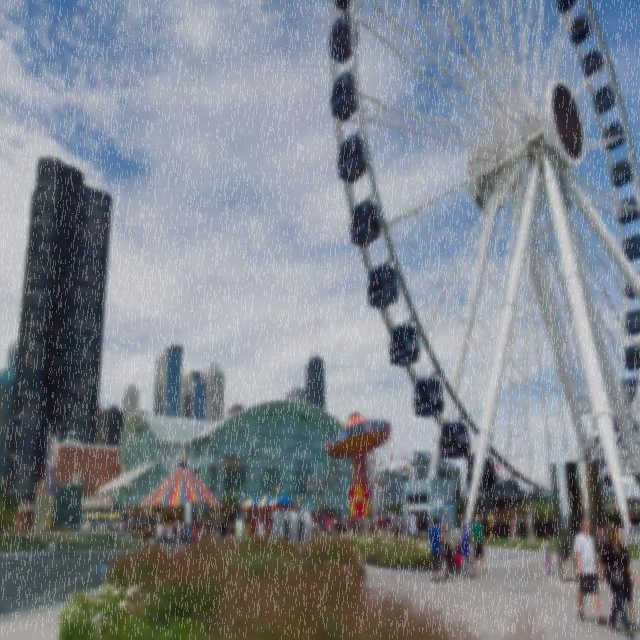pessoa: (598, 521, 638, 639), (572, 515, 609, 628), (616, 528, 640, 633), (366, 453, 416, 486), (305, 464, 349, 494), (426, 515, 444, 584), (457, 518, 475, 578), (470, 512, 488, 572), (198, 516, 235, 539), (559, 527, 576, 570), (130, 515, 154, 542), (540, 530, 554, 576), (244, 519, 274, 538), (411, 508, 428, 539), (508, 512, 522, 548), (525, 508, 537, 550), (37, 516, 53, 546), (10, 510, 24, 538), (596, 522, 606, 561), (83, 516, 107, 531), (387, 506, 399, 536), (176, 520, 192, 542), (486, 508, 496, 541), (514, 511, 524, 542), (430, 508, 446, 527), (154, 518, 164, 548), (235, 514, 245, 544), (334, 509, 344, 539), (310, 513, 321, 538), (602, 509, 613, 533), (458, 511, 473, 528), (162, 521, 170, 552), (404, 508, 412, 537), (167, 520, 174, 552), (380, 512, 388, 540), (440, 526, 451, 546), (99, 558, 108, 582), (384, 509, 391, 539), (489, 509, 496, 538), (327, 512, 334, 540), (373, 509, 380, 537), (324, 515, 331, 542), (402, 511, 409, 538), (376, 508, 382, 539), (190, 522, 197, 548), (355, 512, 363, 534), (319, 512, 326, 536), (549, 539, 557, 560), (426, 509, 433, 532), (398, 508, 403, 539), (588, 506, 595, 528), (366, 513, 372, 538), (172, 520, 178, 544), (348, 512, 354, 536), (526, 504, 536, 518), (343, 512, 349, 534), (363, 514, 369, 534), (331, 509, 335, 534), (479, 510, 484, 525)
